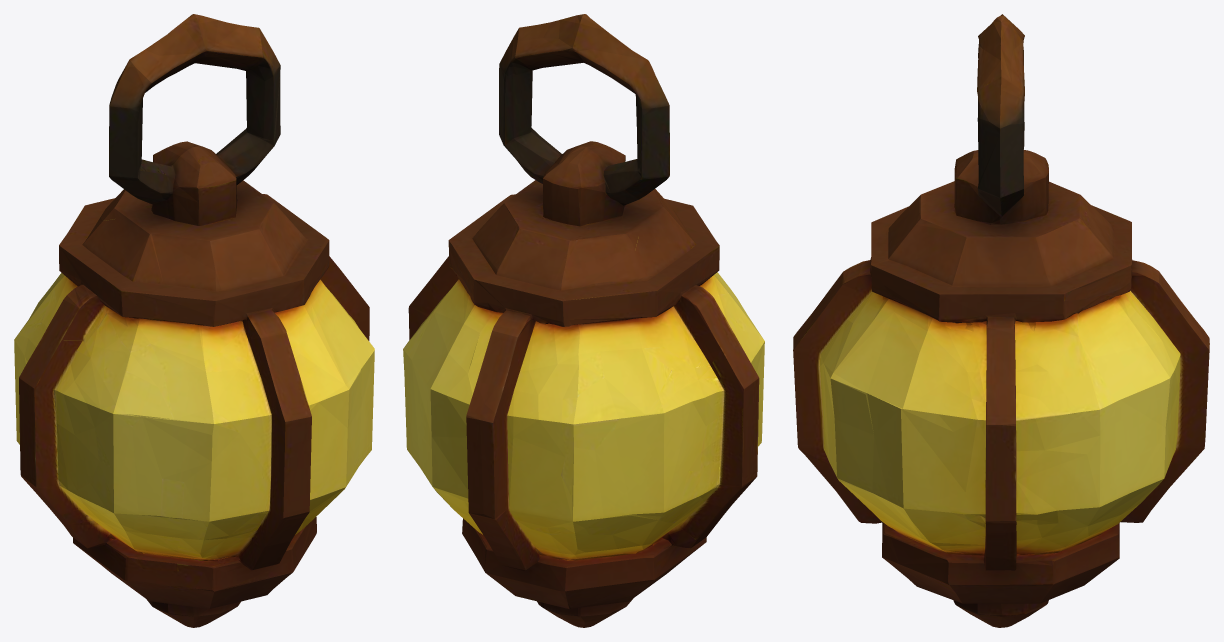
Rendered from racines_lanterne.glb.
3 views of the same model, side by side, from view 1: azimuth 30°, elevation 25°; view 2: azimuth 150°, elevation 25°; view 3: azimuth 270°, elevation 25° (orthographic).
Visible parts, largest first — view 1: geometry_0; view 2: geometry_0; view 3: geometry_0.
Boxes of the visible parts, bbox=[...] form: geometry_0: bbox=[14, 14, 374, 627]; geometry_0: bbox=[403, 14, 764, 627]; geometry_0: bbox=[793, 14, 1209, 627].
Size of the model in its own units: 0.5778 by 1 by 0.6222.
1 material, 1 textured.
